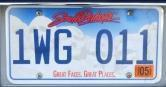placa de veiculo: (1, 2, 164, 83)
